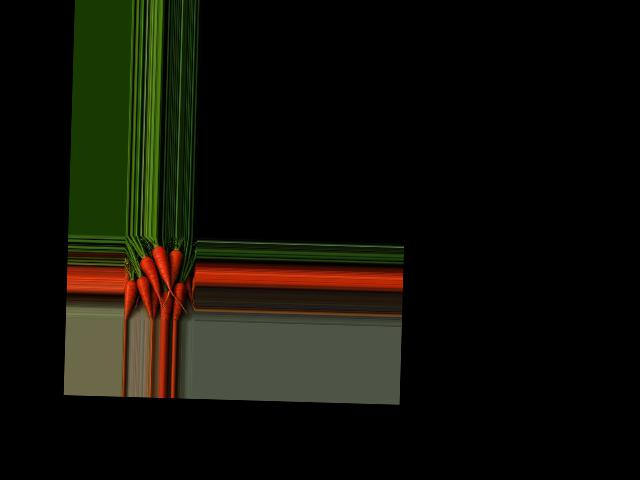carrot: (124, 278, 133, 320)
